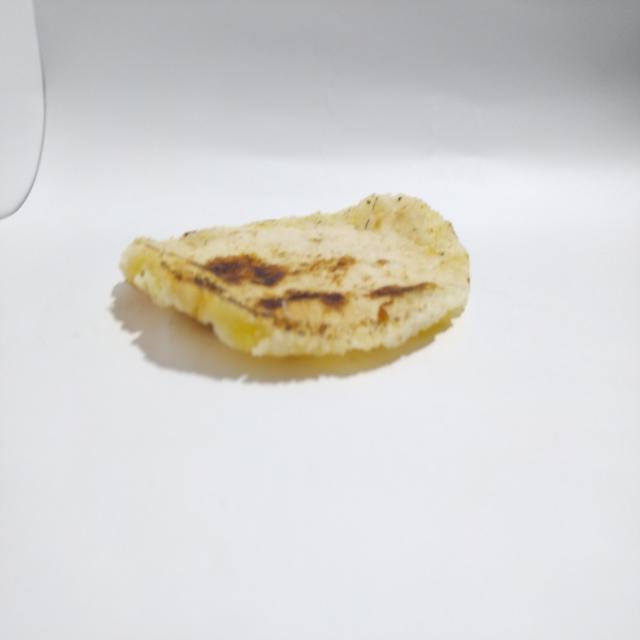Food: (102, 186, 484, 373)
